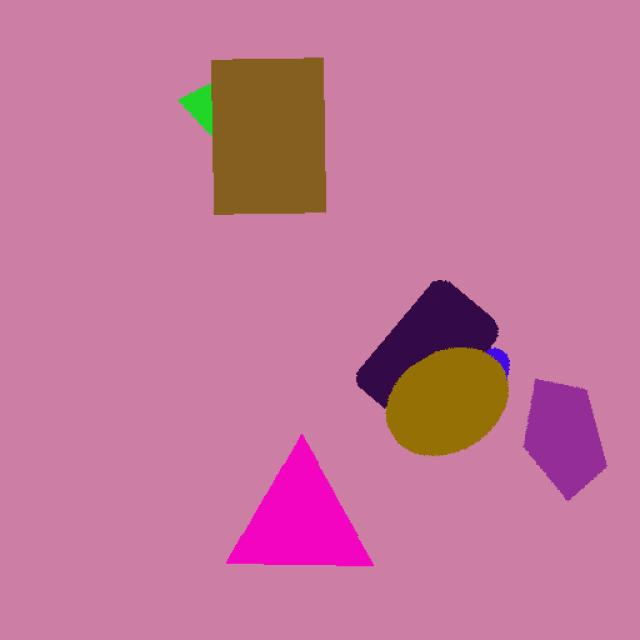Oval: (367, 342, 511, 468)
Pentagon: (511, 367, 638, 511)
Rectangle: (198, 48, 352, 240), (350, 266, 496, 416)
Triangle: (216, 414, 416, 587)
